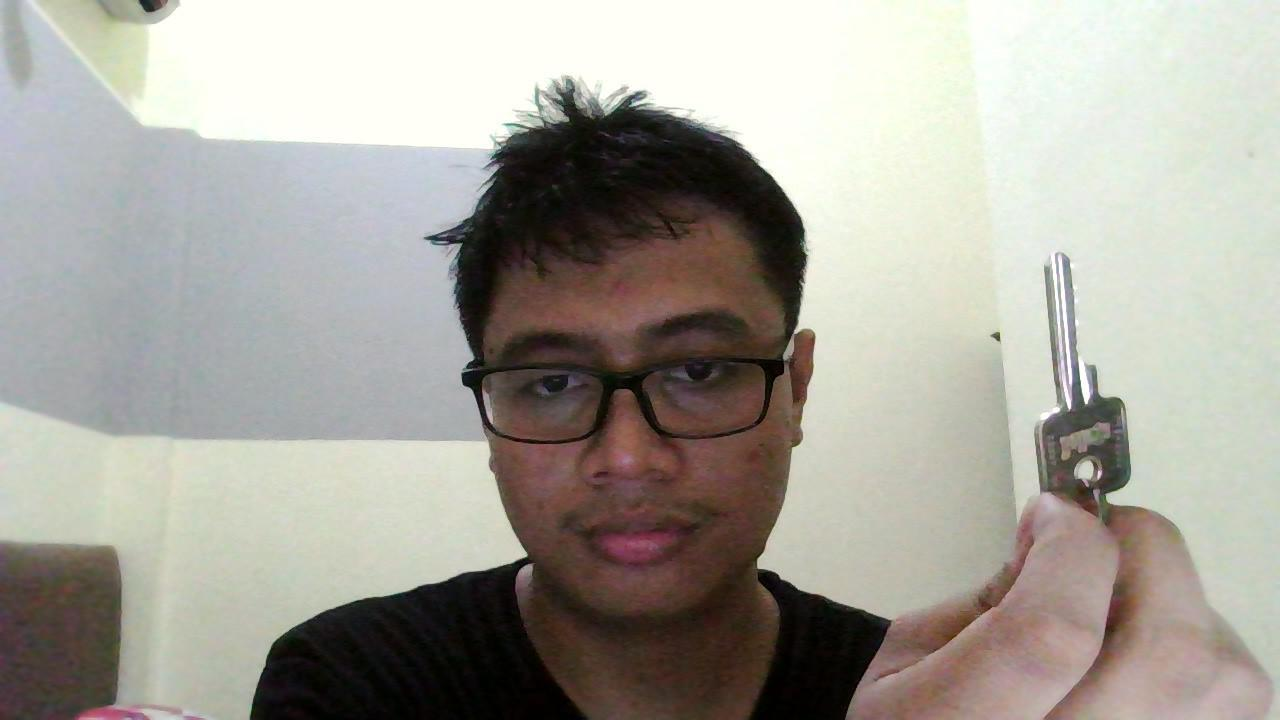keys: (1025, 252, 1129, 510)
